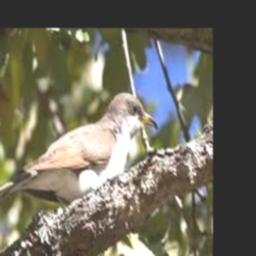Cuckoo: (0, 92, 159, 213)
